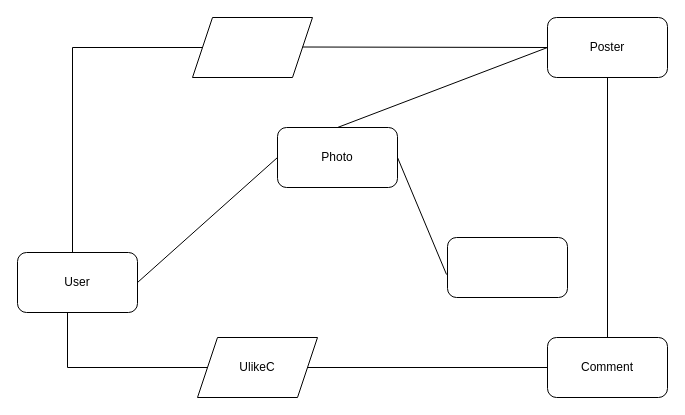
Some shapes in this 685 by 415 pixel diagram are drawn without their labels. Each missing label, with the centre of its shape:
"Bird" belongs at pixel 507 267.
"UlikeP" belongs at pixel 252 47.
